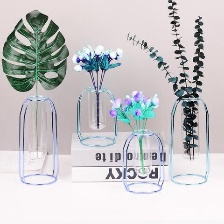bottle: (24, 88, 54, 163), (175, 91, 205, 161), (130, 127, 155, 178), (85, 82, 109, 135)
